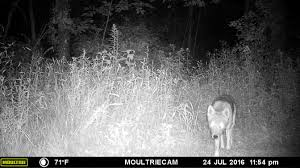coyote: (195, 90, 243, 158)
